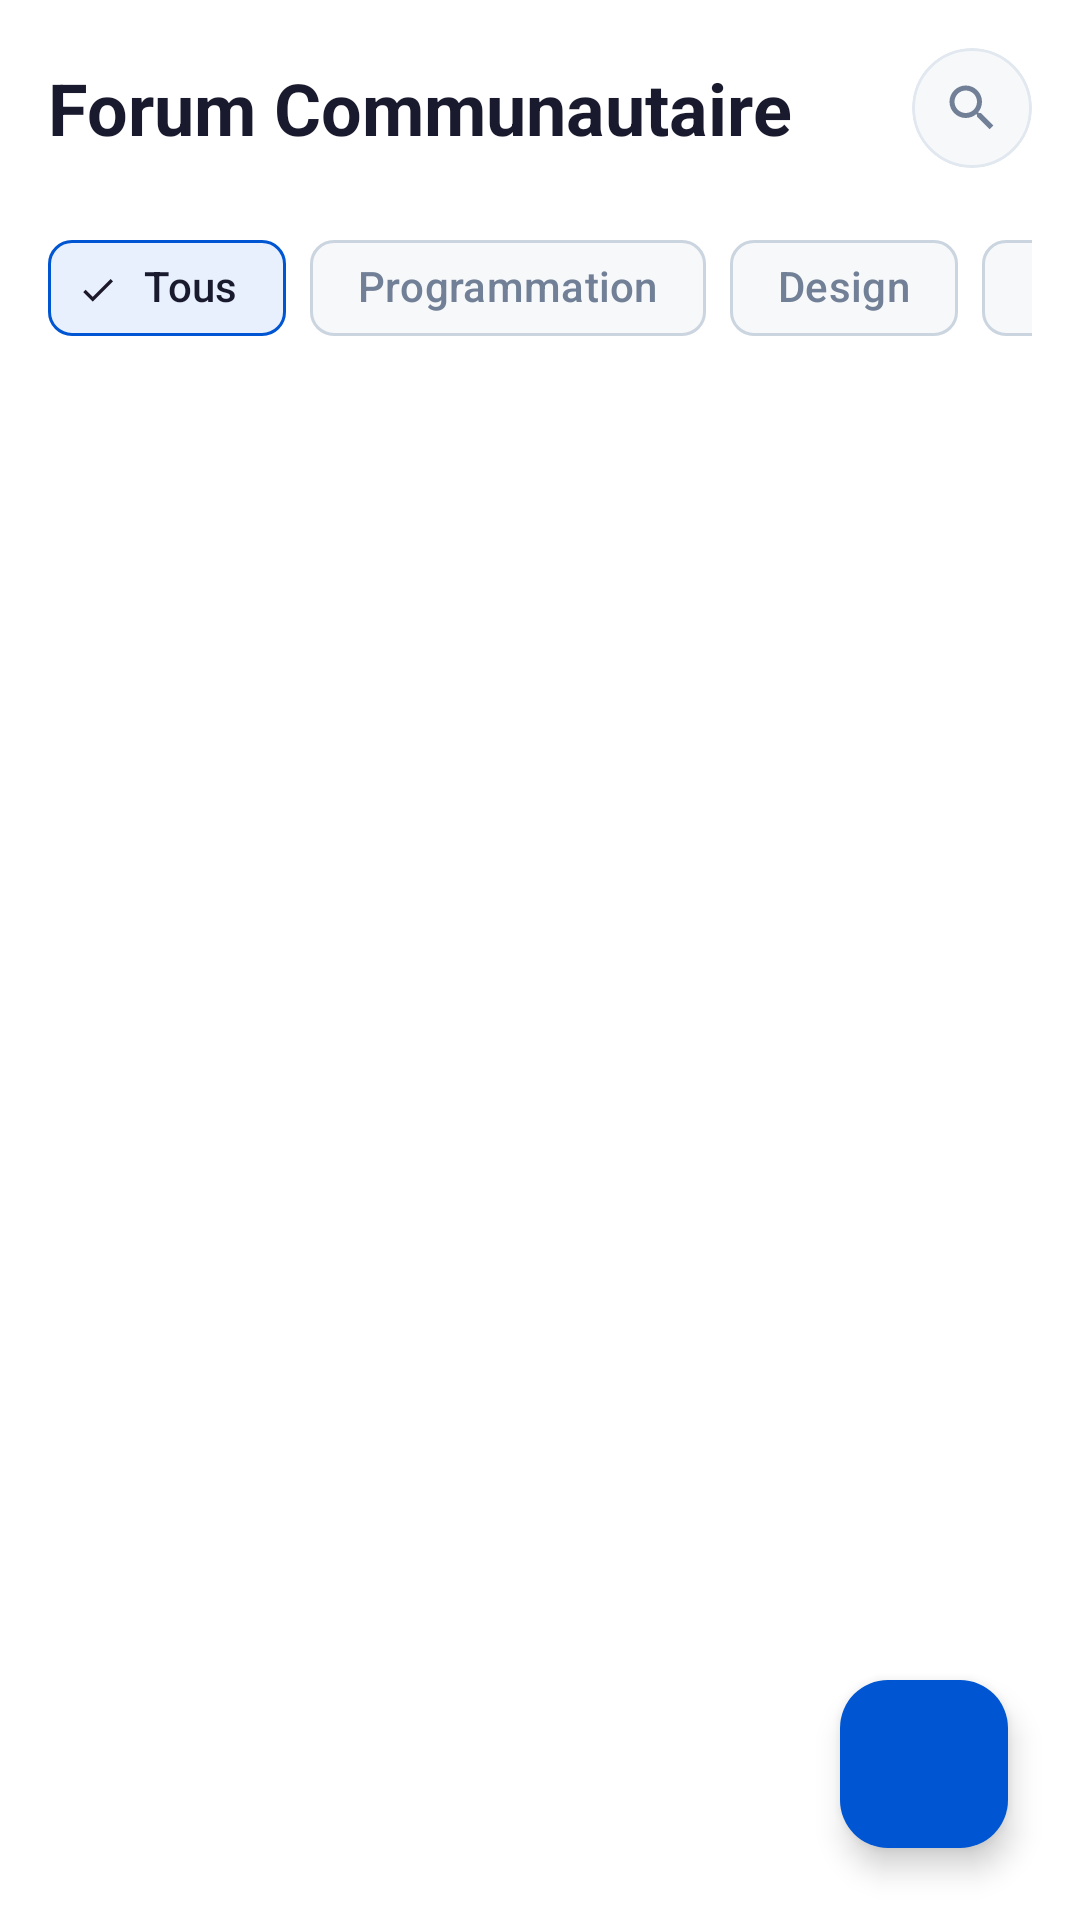

Named icons in this screenshot (1080 × 1920) and their bounding boxes, (x1, y1, x2, y2):
search: (949, 85, 993, 129)
